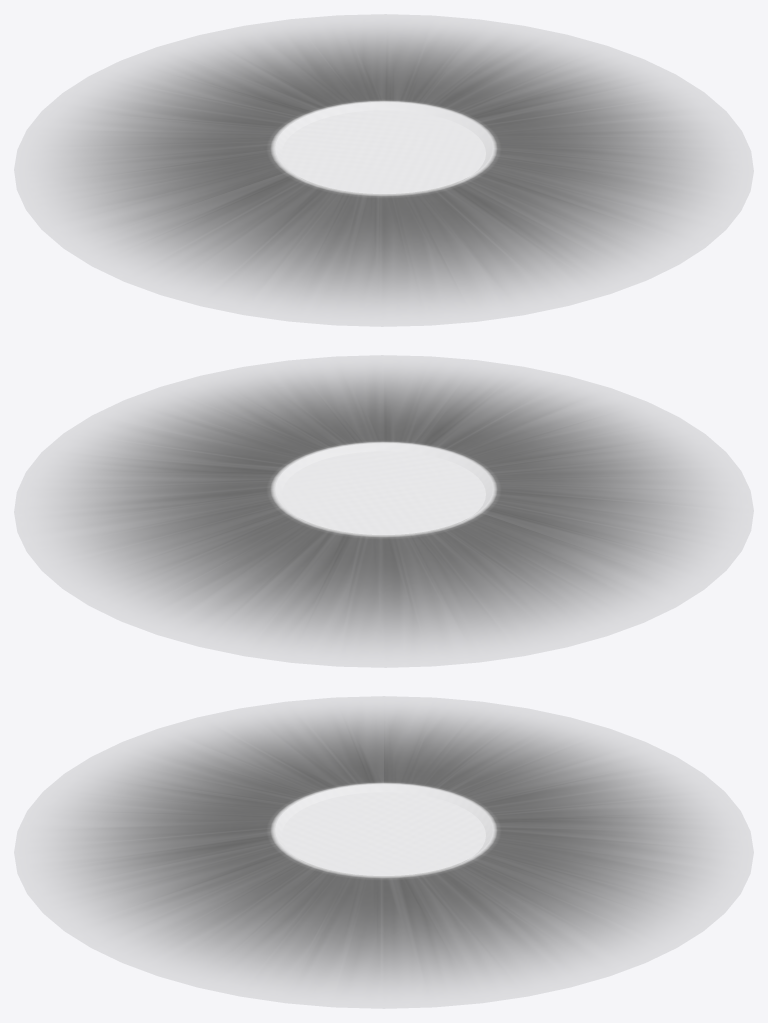
File: indoor_lamp_light.gltf
The picture shows the model from 3 angles, top to bottom: view 1: azimuth 30°, elevation 25°; view 2: azimuth 150°, elevation 25°; view 3: azimuth 270°, elevation 25°; orthographic projection.
Visible parts, largest first — view 1: LampLight; view 2: LampLight; view 3: LampLight.
Boxes of the visible parts, x1,y1,x2,y2 form: LampLight: (43,24,724,311); LampLight: (44,365,724,652); LampLight: (44,706,724,993).
Size of the model in its own units: 3.86 by 0.1287 by 3.86.
Materials: 1 (1 with a texture image).
